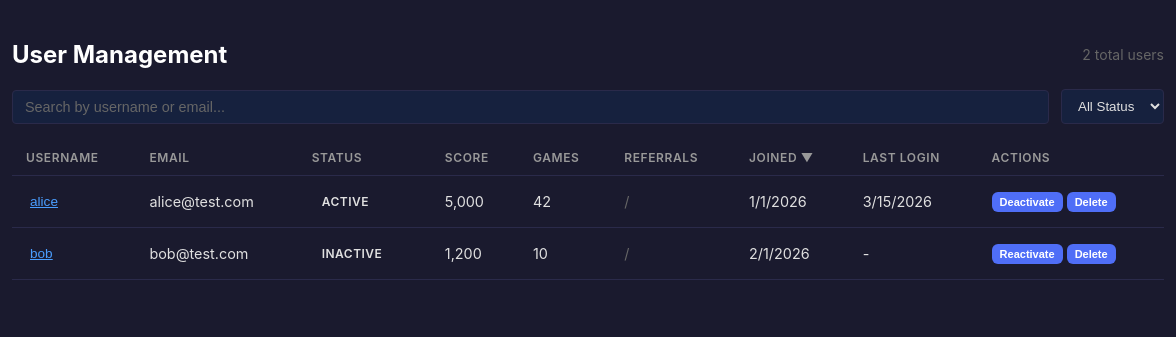
it: AdminUsersPage — extended coverage › clicking Delete shows Confirm button
The width and height of the screenshot is (1176, 337).
Click the button with test id "delete-u1": {"x": 1091, "y": 202} x1=1067 y1=192 x2=1116 y2=212
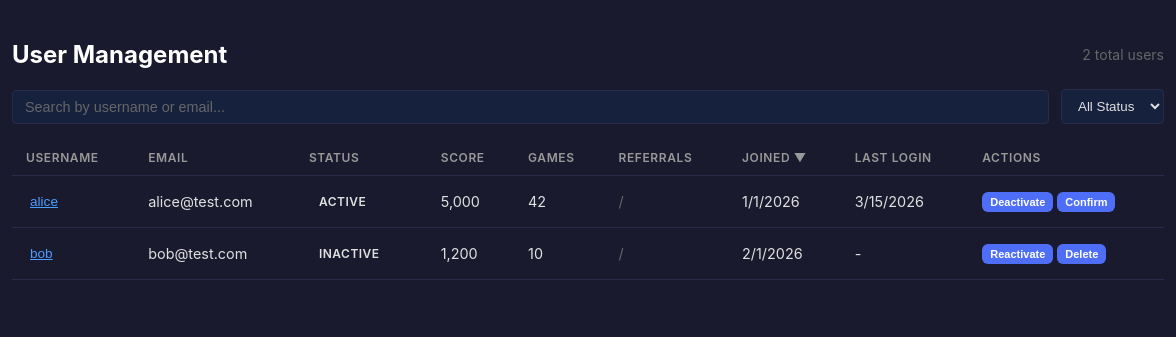
Expected: the button with test id "confirm-delete-u1" reads "Confirm", x1=1057 y1=192 x2=1116 y2=212
